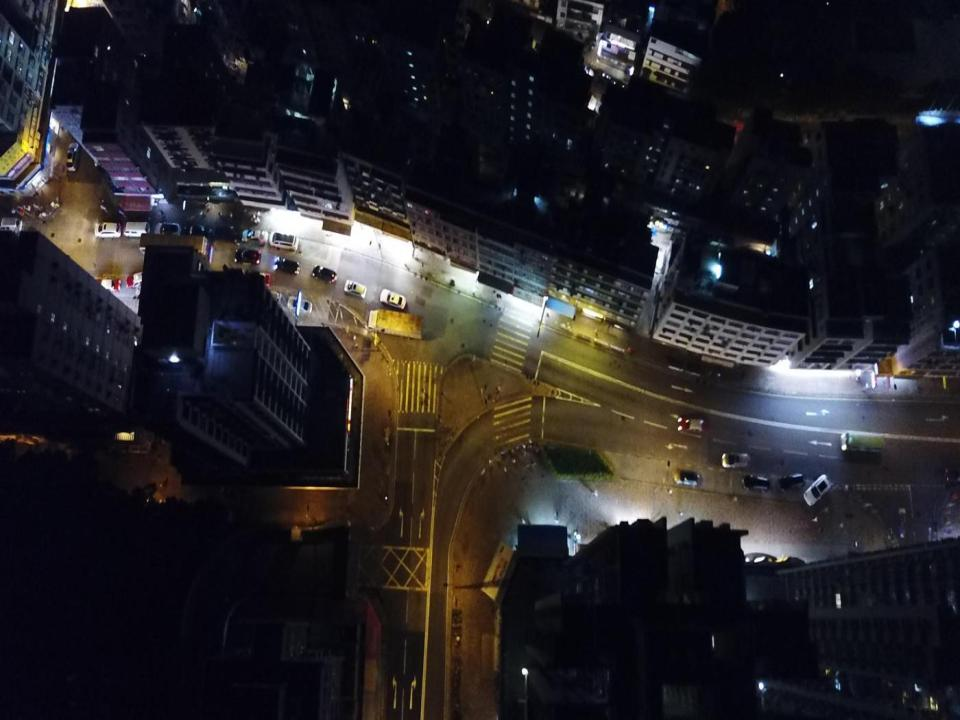bus: (840, 431, 886, 453)
car: (803, 473, 832, 507), (268, 229, 299, 252), (676, 415, 708, 436), (742, 474, 772, 494), (93, 220, 123, 240), (379, 288, 406, 310), (672, 468, 700, 488), (778, 472, 805, 492), (721, 451, 751, 469), (233, 247, 261, 266), (240, 227, 268, 246), (154, 221, 182, 240), (312, 264, 338, 284), (286, 296, 313, 315), (182, 221, 209, 240), (275, 256, 300, 275), (213, 224, 239, 242), (344, 278, 366, 299), (66, 142, 79, 172)
truck: (367, 309, 422, 339)
van: (122, 220, 150, 240)
